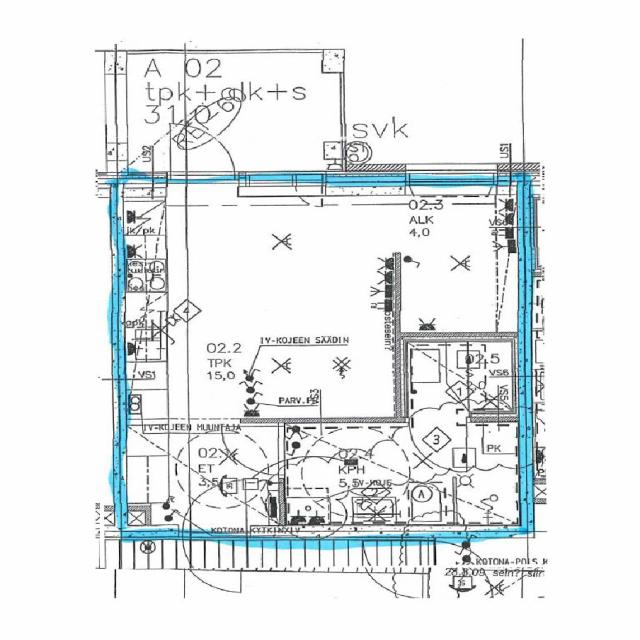door: (170, 120, 233, 195), (183, 524, 246, 588), (183, 474, 246, 537), (217, 426, 285, 475), (411, 410, 466, 465)
